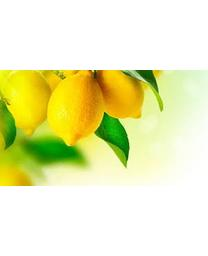lemon: (47, 72, 104, 145), (7, 72, 52, 136), (98, 70, 146, 120)
